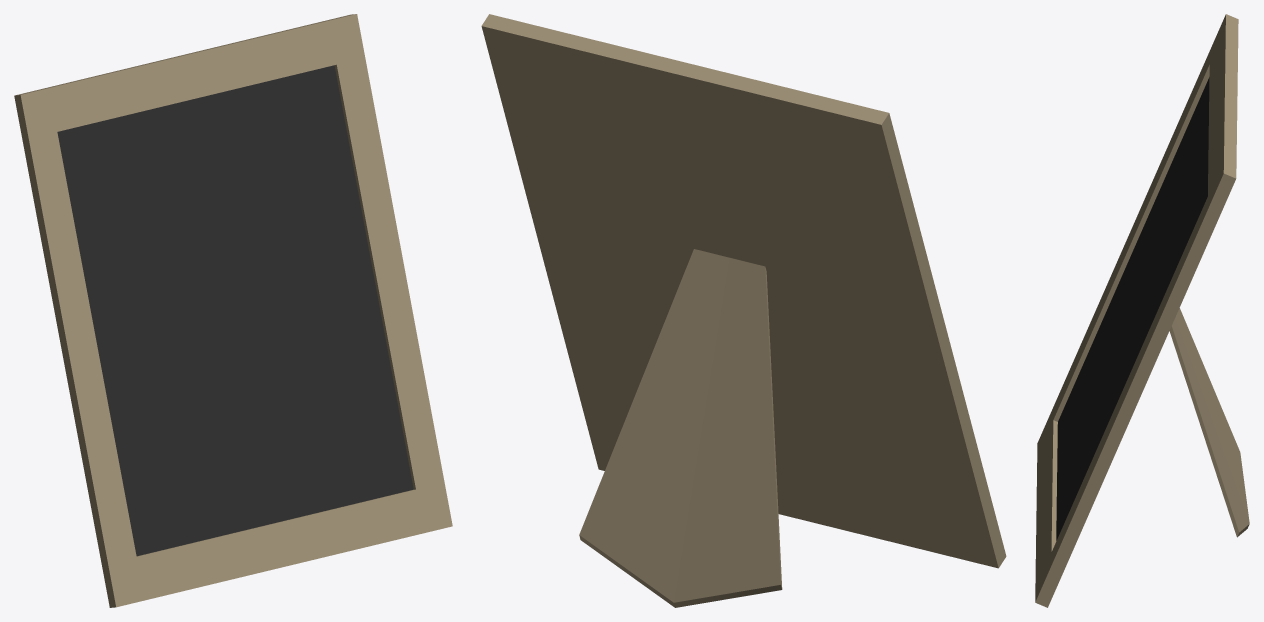
Rendered from pictureFrame_shelf.fbx.
3 views of the same model, side by side, from view 1: azimuth 30°, elevation 25°; view 2: azimuth 150°, elevation 25°; view 3: azimuth 270°, elevation 25° (orthographic). The views are drawn at different scales.
Parts seen in each view (by area): view 1: summerStaffFrame; view 2: summerStaffFrame; view 3: summerStaffFrame.
Part boxes in pixels (x1,y1,x2,y2): summerStaffFrame: [14, 14, 452, 607]; summerStaffFrame: [481, 14, 1006, 607]; summerStaffFrame: [1035, 14, 1249, 607].
Size of the model in its own units: 0.8916 by 1.13 by 0.5051.
